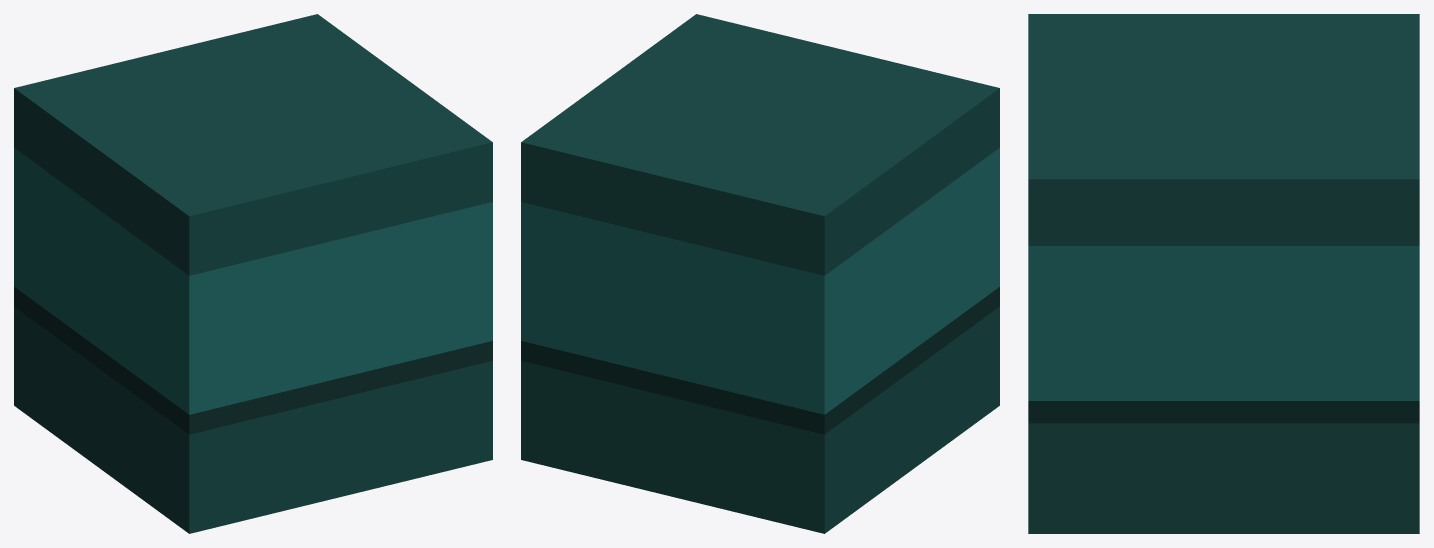
Rendered from WinterGrass-15.obj.
The picture shows the model from 3 angles, left to right: view 1: azimuth 30°, elevation 25°; view 2: azimuth 150°, elevation 25°; view 3: azimuth 270°, elevation 25°; orthographic projection. The views are drawn at different scales.
Size of the model in its own units: 1.6 by 1.6 by 1.6.
Materials: 1 (1 with a texture image).
